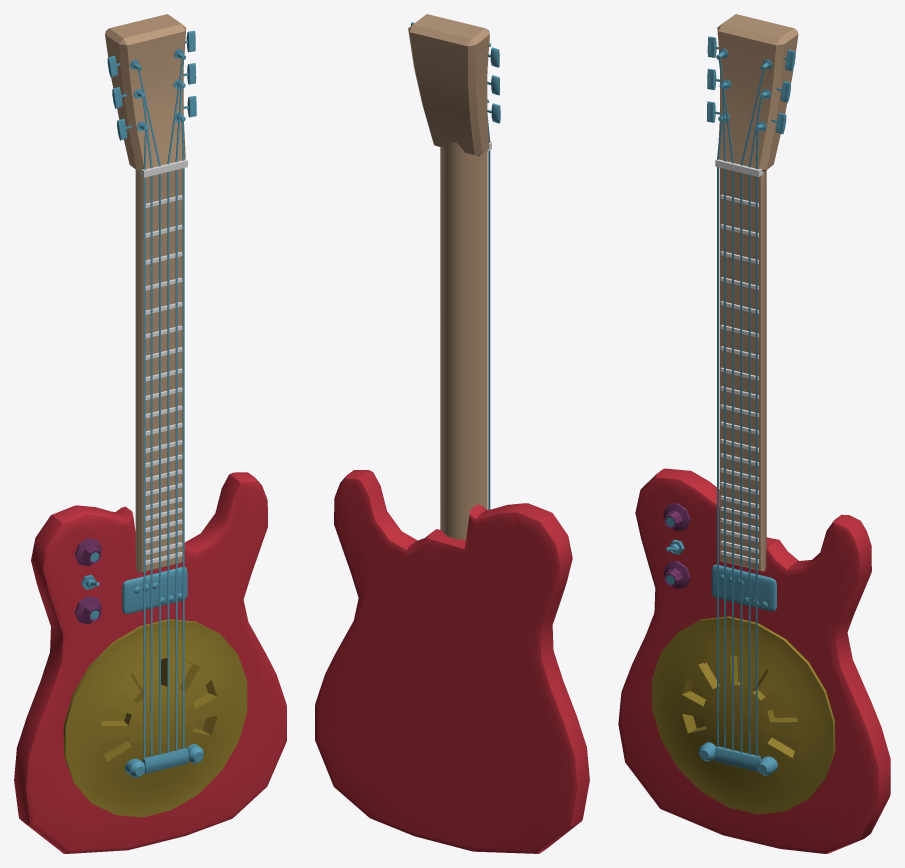
File: guitarprop.fbx
The picture shows the model from 3 angles, left to right: view 1: azimuth 30°, elevation 25°; view 2: azimuth 150°, elevation 25°; view 3: azimuth 330°, elevation 25°; orthographic projection.
Parts seen in each view (by area): view 1: polySurface94, polySurface92, polySurface49, polySurface53, polySurface72, polySurface51, polySurface67, polySurface71, polySurface30, polySurface50, polySurface31, polySurface32 (+2 smaller); view 2: polySurface94, polySurface49, polySurface53, polySurface51; view 3: polySurface94, polySurface92, polySurface49, polySurface53, polySurface72, polySurface30, polySurface67, polySurface71, polySurface31, polySurface50, polySurface51, polySurface32 (+2 smaller).
Part boxes in pixels (x1,y1,x2,y2): polySurface94: (14,472,286,853); polySurface92: (63,619,247,817); polySurface49: (135,168,182,573); polySurface53: (105,14,186,171); polySurface72: (122,567,187,613); polySurface51: (143,177,145,758); polySurface67: (175,169,177,751); polySurface71: (182,168,184,749); polySurface30: (167,172,169,753); polySurface50: (150,175,152,757); polySurface31: (159,173,160,755); polySurface32: (142,748,188,773); polySurface94: (315,470,589,853); polySurface49: (440,141,487,539); polySurface53: (408,14,489,156); polySurface51: (488,150,490,509); polySurface94: (618,468,890,853); polySurface92: (652,616,835,814); polySurface49: (719,168,766,571); polySurface53: (717,14,798,171); polySurface72: (711,564,776,611); polySurface30: (740,173,742,752); polySurface67: (748,175,750,754); polySurface71: (755,176,757,756); polySurface31: (732,170,733,750); polySurface50: (724,169,725,748); polySurface51: (717,167,718,746); polySurface32: (714,746,760,771).
Bounding box in the file's own units: 2.13 × 6.25 × 0.4826.
